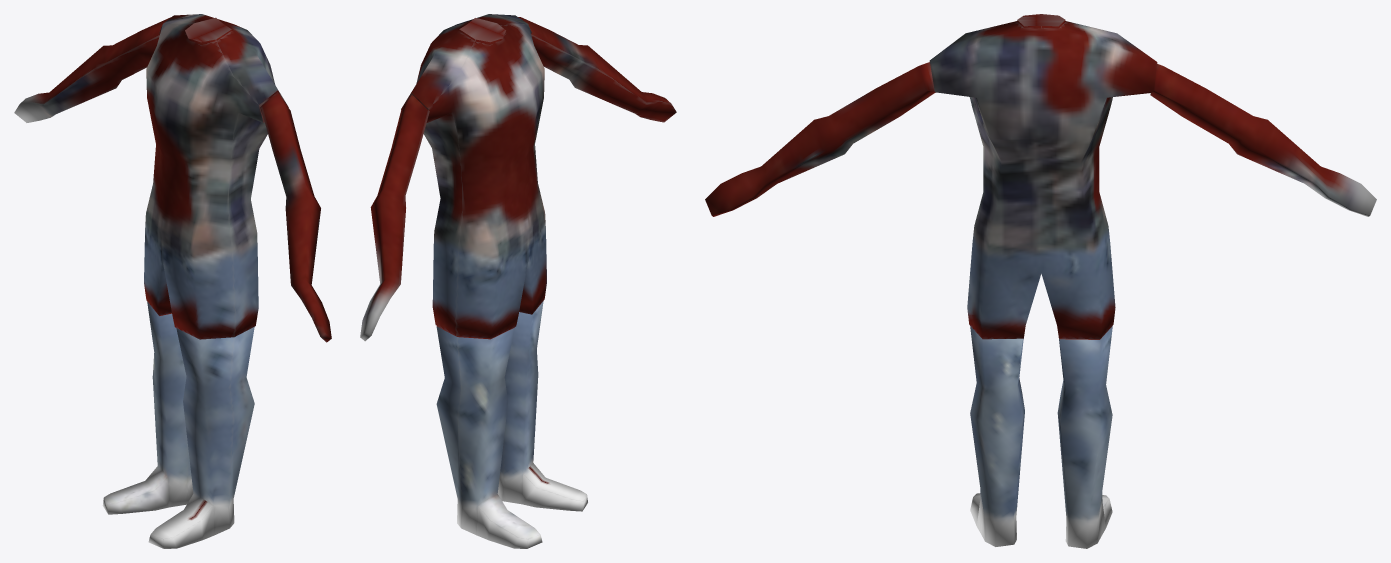
File: Pesonajes 2.glb
3 views of the same model, side by side, from view 1: azimuth 30°, elevation 25°; view 2: azimuth 150°, elevation 25°; view 3: azimuth 270°, elevation 25° (orthographic). The views are drawn at different scales.
Parts seen in each view (by area): view 1: Cube.023, Cube.087, Cube.073, Cube.058, Cube.061; view 2: Cube.023, Cube.073, Cube.087, Cube.061, Cube.058; view 3: Cube.023, Cube.073, Cube.087, Cube.058, Cube.061.
Boxes of the visible parts, box(x1,y1,x2,y2) form: Cube.023: box(144, 14, 288, 339); Cube.087: box(148, 327, 254, 548); Cube.073: box(102, 302, 193, 514); Cube.058: box(260, 91, 331, 342); Cube.061: box(14, 17, 170, 122); Cube.023: box(401, 14, 546, 338); Cube.073: box(436, 326, 542, 548); Cube.087: box(497, 301, 587, 511); Cube.061: box(360, 95, 429, 341); Cube.058: box(518, 17, 676, 122); Cube.023: box(929, 14, 1157, 339); Cube.073: box(1057, 325, 1112, 548); Cube.087: box(970, 326, 1024, 546); Cube.058: box(705, 62, 935, 216); Cube.061: box(1150, 64, 1376, 216).
Bounding box in the file's own units: 2.34 × 8.11 × 9.33.
1 material, 1 textured.
